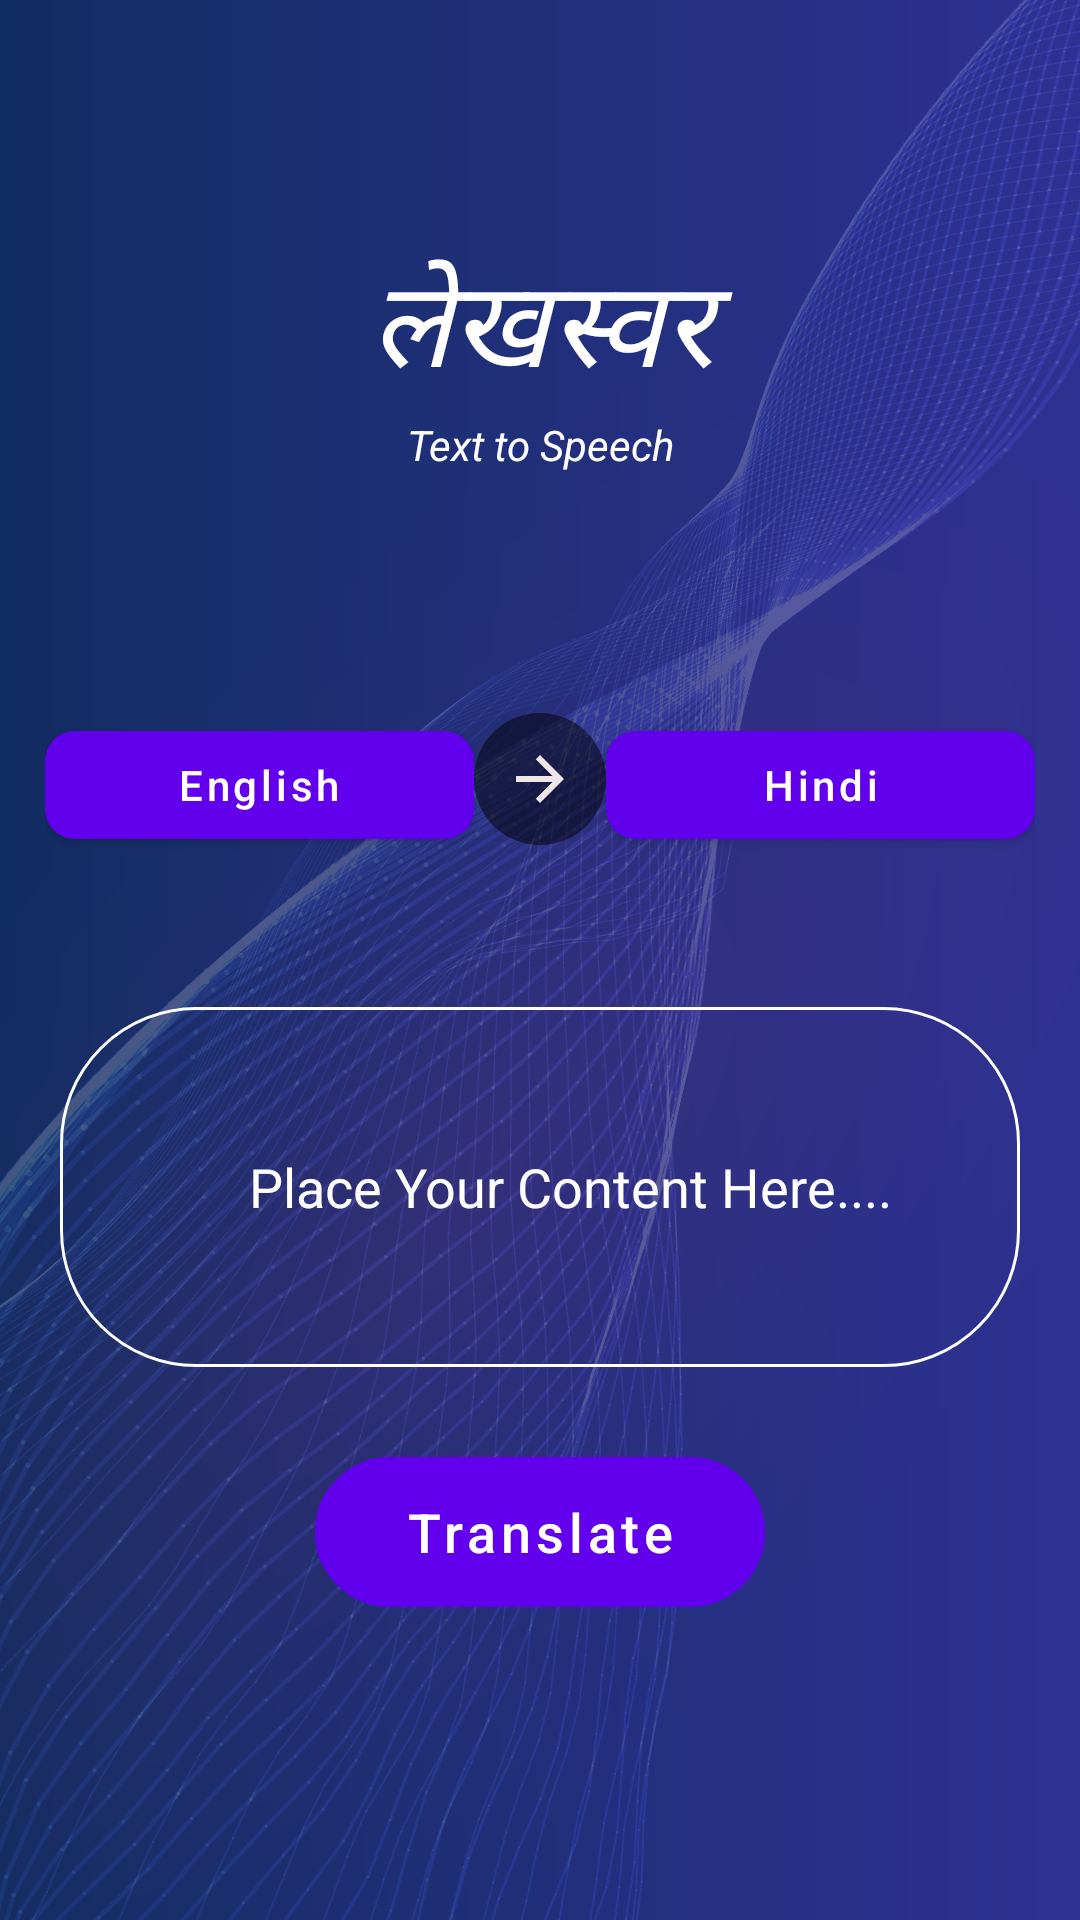

Named icons in this screenshot (1080*1920) and their centers, (x=x, y=y):
arrow forward: (x=540, y=779)
